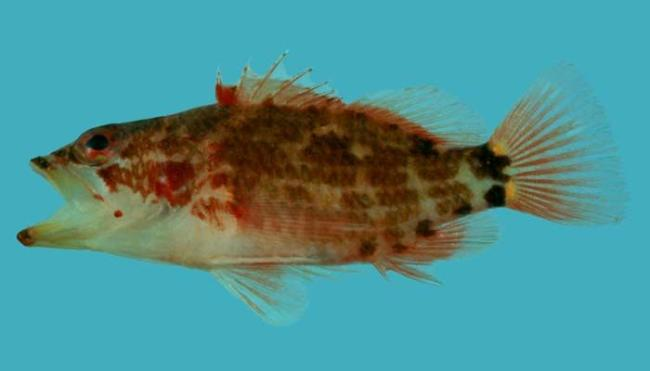fish: (16, 48, 630, 325)
